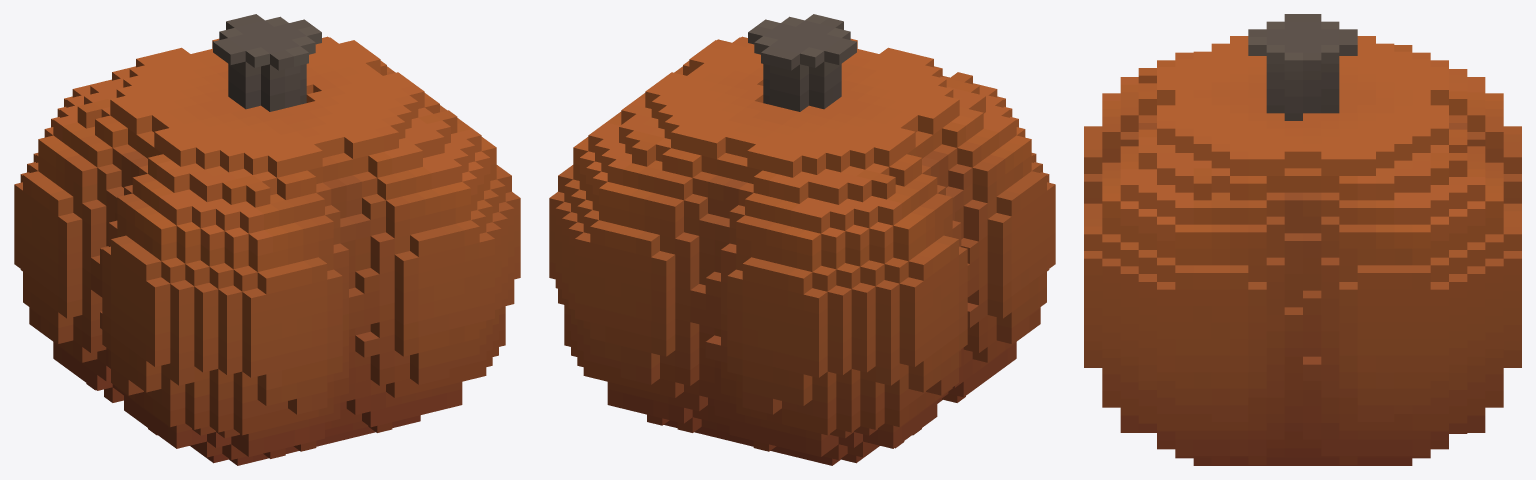
The model's file is kaykit_pumpkin.glb.
3 views of the same model, side by side, from view 1: azimuth 30°, elevation 25°; view 2: azimuth 150°, elevation 25°; view 3: azimuth 270°, elevation 25° (orthographic). The views are drawn at different scales.
Parts seen in each view (by area): view 1: _MeshInstance3D_3; view 2: _MeshInstance3D_3; view 3: _MeshInstance3D_3.
Part boxes in pixels (x1,y1,x2,y2): _MeshInstance3D_3: (14, 14, 520, 465); _MeshInstance3D_3: (549, 14, 1055, 465); _MeshInstance3D_3: (1084, 14, 1521, 465).
Size of the model in its own units: 0.9 by 0.85 by 0.9.
